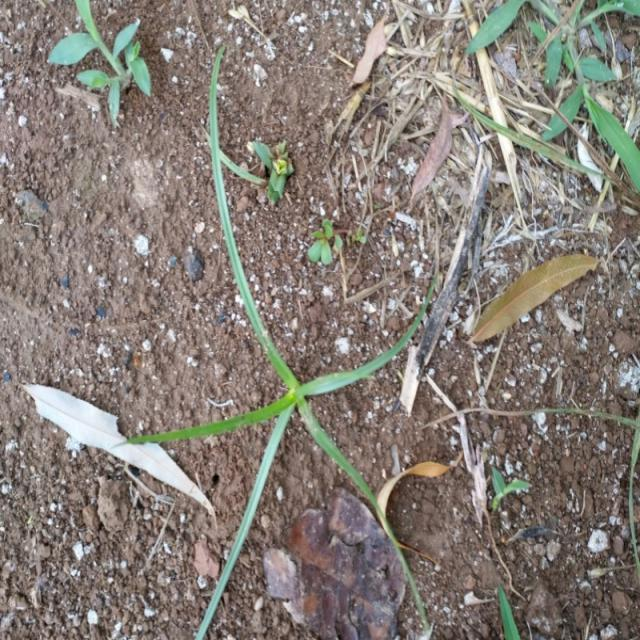sedge: (130, 96, 432, 569)
